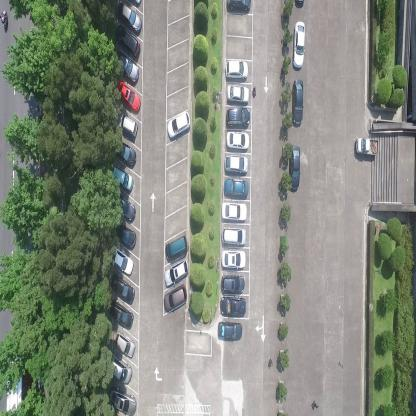car: (115, 79, 141, 114), (114, 23, 140, 58), (116, 0, 142, 34), (107, 299, 134, 331), (116, 49, 139, 85), (108, 388, 137, 415), (164, 282, 188, 314), (164, 257, 189, 287), (110, 274, 135, 304), (109, 352, 131, 385), (166, 110, 190, 140), (111, 245, 134, 276), (165, 233, 188, 262), (293, 19, 306, 70), (288, 144, 301, 192), (219, 296, 247, 318), (112, 164, 134, 192), (115, 221, 136, 250), (225, 58, 249, 82), (112, 332, 134, 358), (116, 139, 136, 167), (226, 129, 250, 152), (356, 135, 378, 160), (224, 153, 249, 175), (220, 274, 245, 296), (221, 225, 247, 246), (117, 112, 138, 138), (118, 194, 136, 224), (292, 79, 303, 128), (225, 107, 250, 128), (221, 249, 246, 270), (218, 322, 244, 342), (222, 179, 249, 198), (222, 202, 247, 222), (226, 85, 249, 106), (226, 0, 252, 13)
